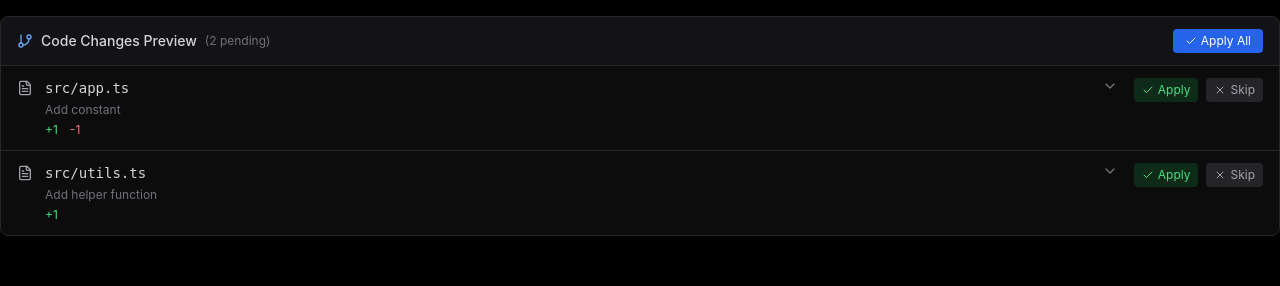
CodeChangePreview › Applied/Skipped States › shows Applied label after applying
The image size is (1280, 286).
Click the 1st button "Apply": (1166, 90) [1134,78,1198,102]
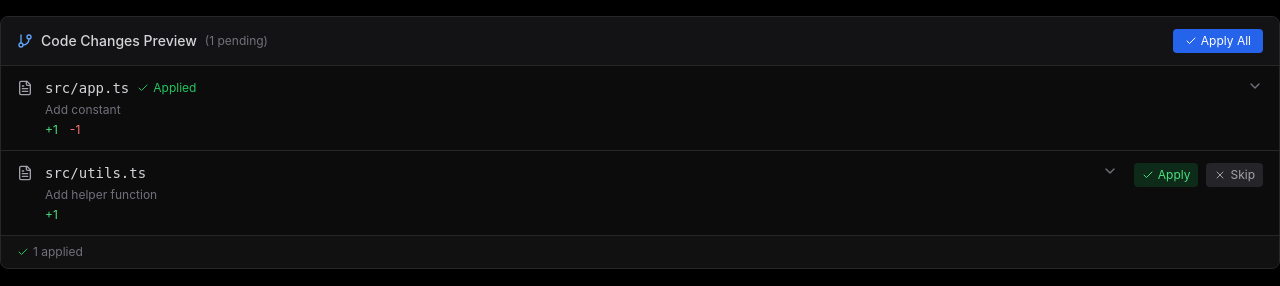
Now the text "Applied" is shown, box [153,80,196,96]
